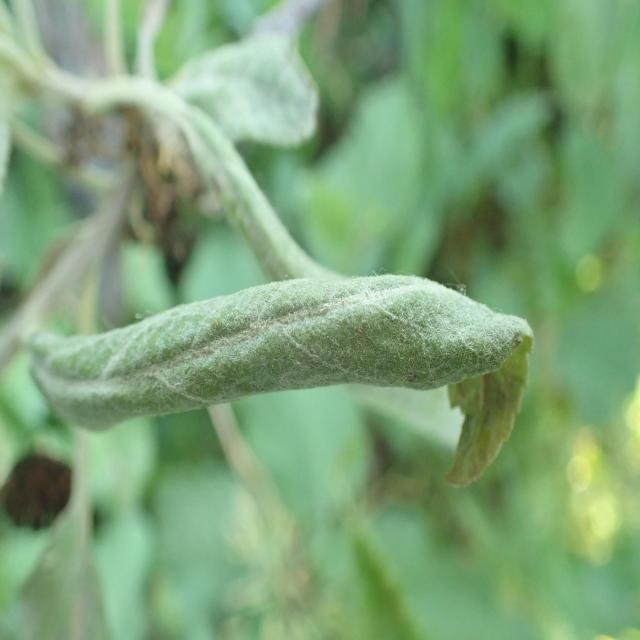Powdery_mildew: (39, 262, 531, 513), (119, 84, 323, 277), (168, 10, 322, 166)
